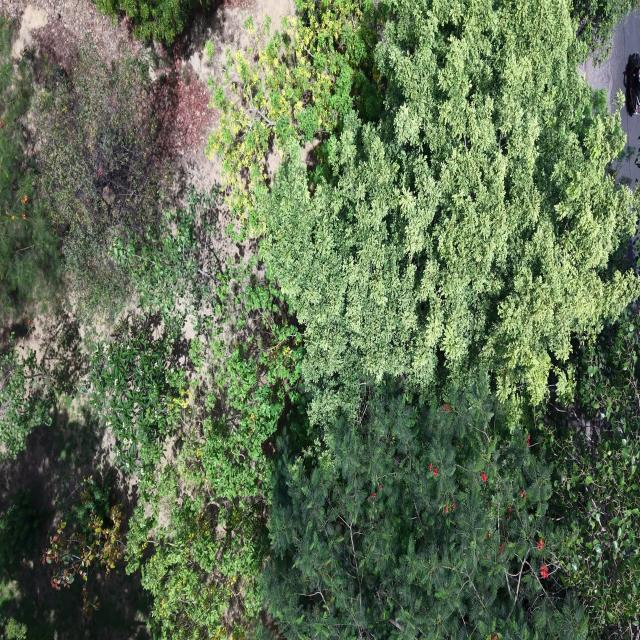DRY_AREA: (0, 0, 295, 206), (0, 0, 294, 204), (0, 0, 295, 192), (2, 0, 215, 186), (171, 0, 294, 187), (0, 395, 135, 550), (0, 0, 142, 69), (0, 0, 146, 67), (185, 0, 295, 85), (581, 10, 639, 112)
PATHWAYS: (581, 11, 639, 110)
VEGETATION_TREE: (0, 0, 639, 639), (234, 3, 636, 637), (257, 0, 636, 418), (91, 192, 301, 638), (264, 375, 587, 639), (208, 0, 386, 236), (0, 400, 150, 639), (37, 40, 161, 309), (543, 305, 639, 633), (0, 16, 58, 322), (0, 16, 57, 321), (90, 316, 187, 473), (42, 477, 124, 615), (0, 334, 52, 459), (95, 0, 215, 45), (95, 0, 213, 45), (572, 0, 639, 60), (0, 489, 45, 576), (4, 619, 26, 639)
